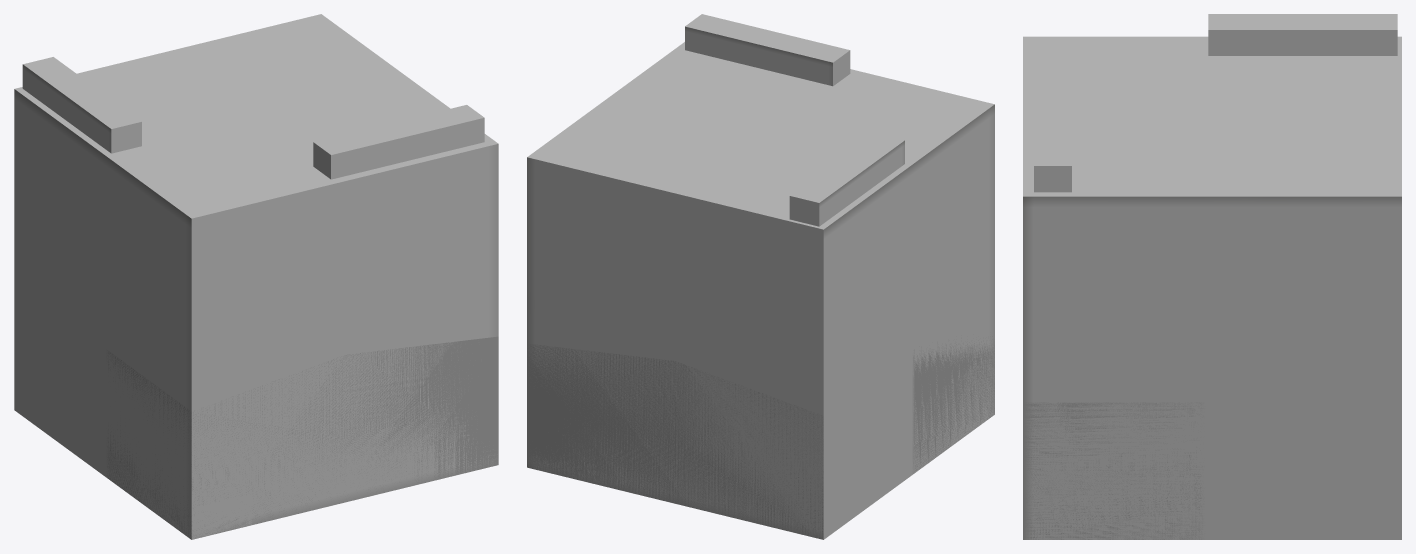
File: bz_blocking_01.fbx
3 views of the same model, side by side, from view 1: azimuth 30°, elevation 25°; view 2: azimuth 150°, elevation 25°; view 3: azimuth 270°, elevation 25° (orthographic). The views are drawn at different scales.
Visible parts, largest first — view 1: bz_blocking_build01, bz_blocking_build03, bz_blocking_block01; view 2: bz_blocking_build01, bz_blocking_build03; view 3: bz_blocking_build01, bz_blocking_build03.
Part boxes in pixels (bbox=[...]): bz_blocking_build01: bbox=[14, 14, 498, 539]; bz_blocking_build03: bbox=[14, 283, 498, 539]; bz_blocking_block01: bbox=[178, 494, 252, 539]; bz_blocking_build01: bbox=[527, 14, 994, 539]; bz_blocking_build03: bbox=[527, 336, 994, 539]; bz_blocking_build01: bbox=[1023, 14, 1401, 539]; bz_blocking_build03: bbox=[1023, 402, 1401, 539].
Bounding box in the file's own units: 10 × 10.76 × 10.
